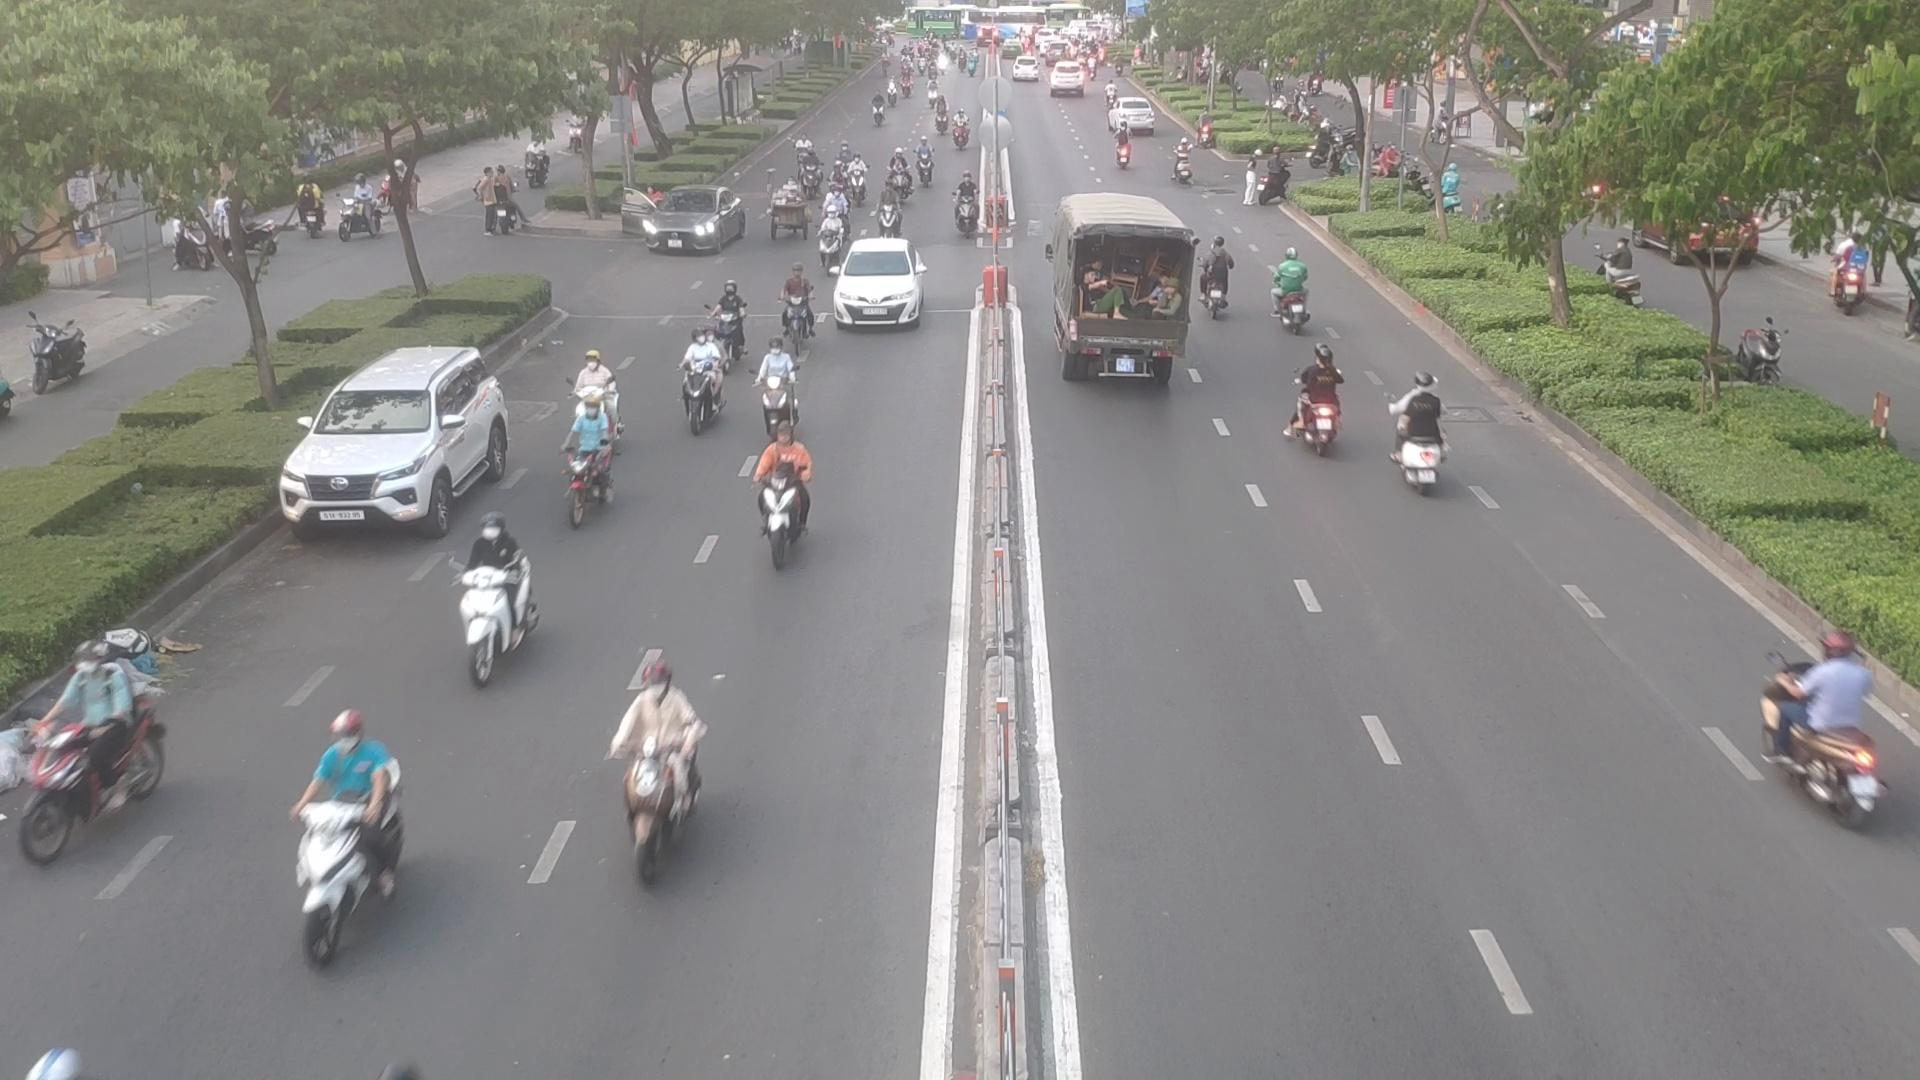car: (287, 349, 521, 539), (620, 191, 750, 258), (833, 244, 928, 334)
motorbike: (0, 637, 160, 855), (1753, 630, 1916, 825), (301, 720, 417, 956), (608, 674, 709, 876), (438, 517, 545, 679), (742, 433, 815, 554), (1385, 376, 1455, 491), (566, 392, 628, 516), (1288, 355, 1356, 450), (1265, 255, 1324, 339), (678, 340, 731, 434), (1197, 228, 1245, 318), (704, 281, 752, 357), (783, 272, 825, 355), (568, 349, 625, 406), (953, 189, 985, 243), (818, 215, 851, 266), (872, 199, 905, 243), (1168, 142, 1199, 186), (1105, 133, 1139, 170), (884, 160, 913, 202), (800, 158, 829, 198), (843, 157, 870, 198), (916, 148, 942, 187)
